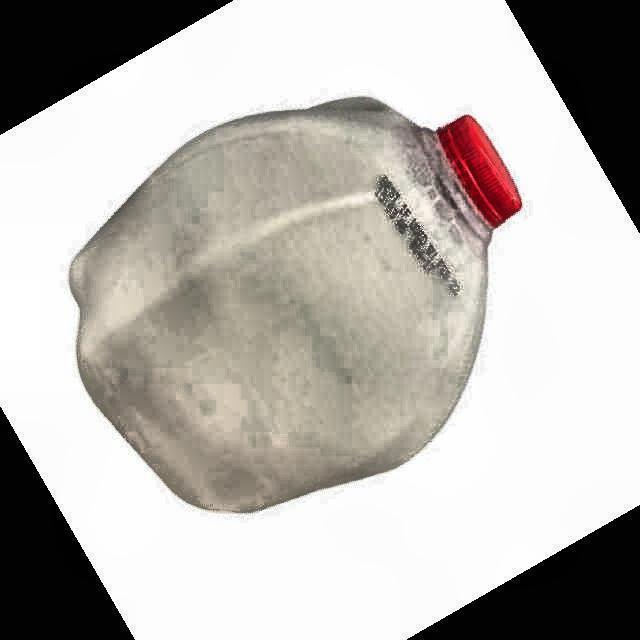plastic: (69, 98, 521, 511)
